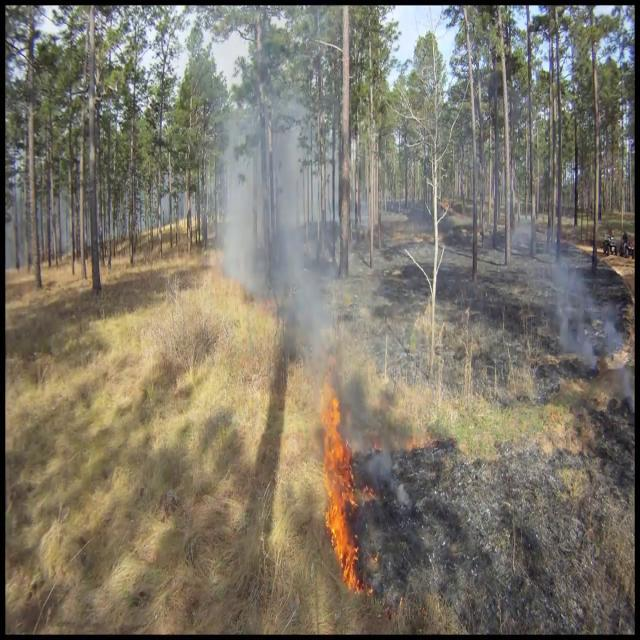Fire: (314, 377, 364, 596)
Smoke: (215, 84, 342, 391), (538, 236, 632, 378)
